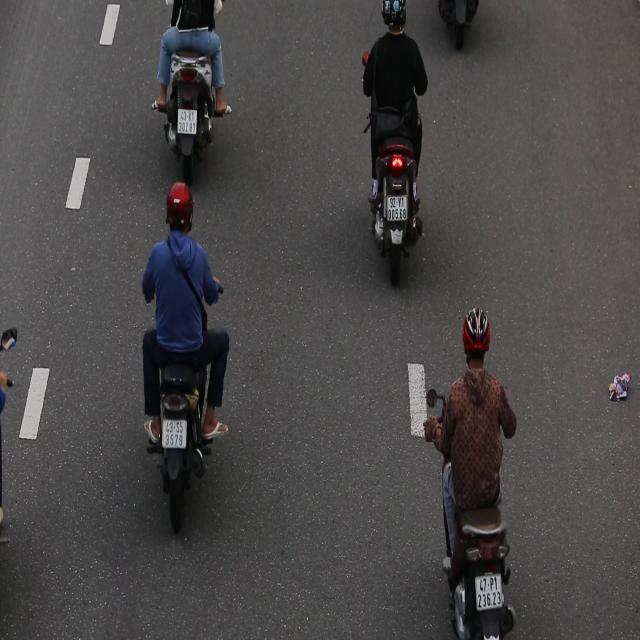motorbike: (137, 180, 231, 521), (424, 301, 515, 640)
